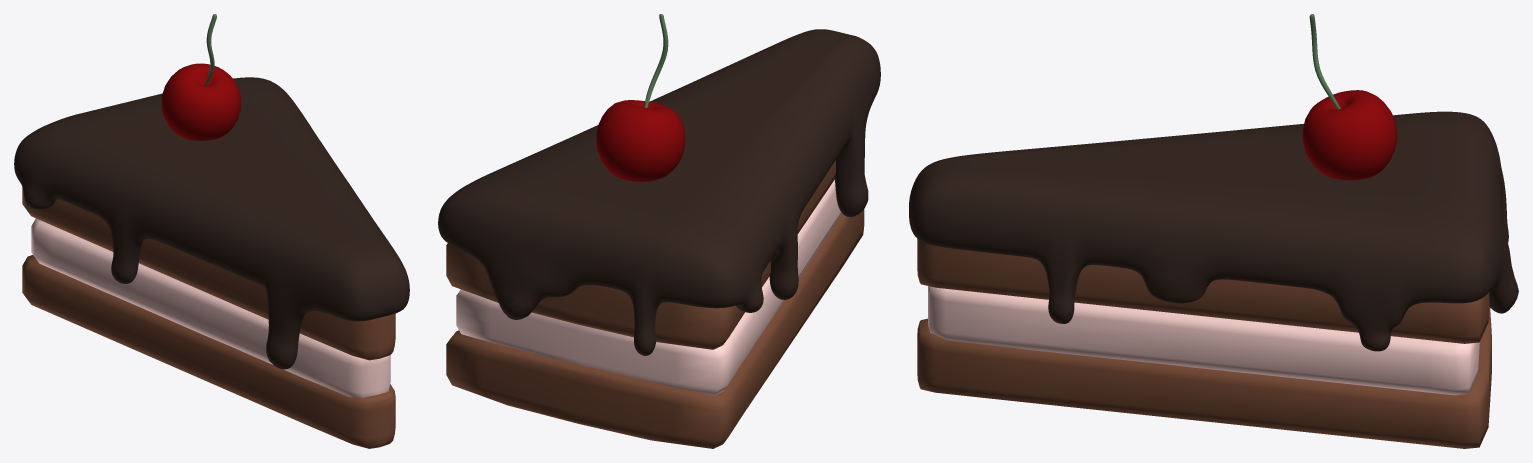
Rendered from cake.glb.
The picture shows the model from 3 angles, left to right: view 1: azimuth 30°, elevation 25°; view 2: azimuth 150°, elevation 25°; view 3: azimuth 270°, elevation 25°; orthographic projection. The views are drawn at different scales.
Visible parts, largest first — view 1: Plane.009, Plane.006, Plane.007, Plane.008, Sphere; view 2: Plane.009, Plane.006, Plane.007, Plane.008, Sphere, Cube; view 3: Plane.009, Plane.006, Plane.007, Plane.008, Sphere.
Part boxes in pixels (<box>): Plane.009: <box>14,77,409,369</box>; Plane.006: <box>22,255,395,448</box>; Plane.007: <box>31,218,390,397</box>; Plane.008: <box>22,187,395,360</box>; Sphere: <box>161,63,241,140</box>; Plane.009: <box>438,29,880,355</box>; Plane.006: <box>446,209,864,448</box>; Plane.007: <box>456,180,841,395</box>; Plane.008: <box>446,160,835,349</box>; Sphere: <box>596,100,685,181</box>; Cube: <box>644,14,668,107</box>; Plane.009: <box>909,111,1518,351</box>; Plane.006: <box>917,307,1491,448</box>; Plane.007: <box>928,286,1479,395</box>; Plane.008: <box>917,239,1489,343</box>; Sphere: <box>1302,90,1397,180</box>.
Bounding box in the file's own units: 1.29 × 1.42 × 2.12.
